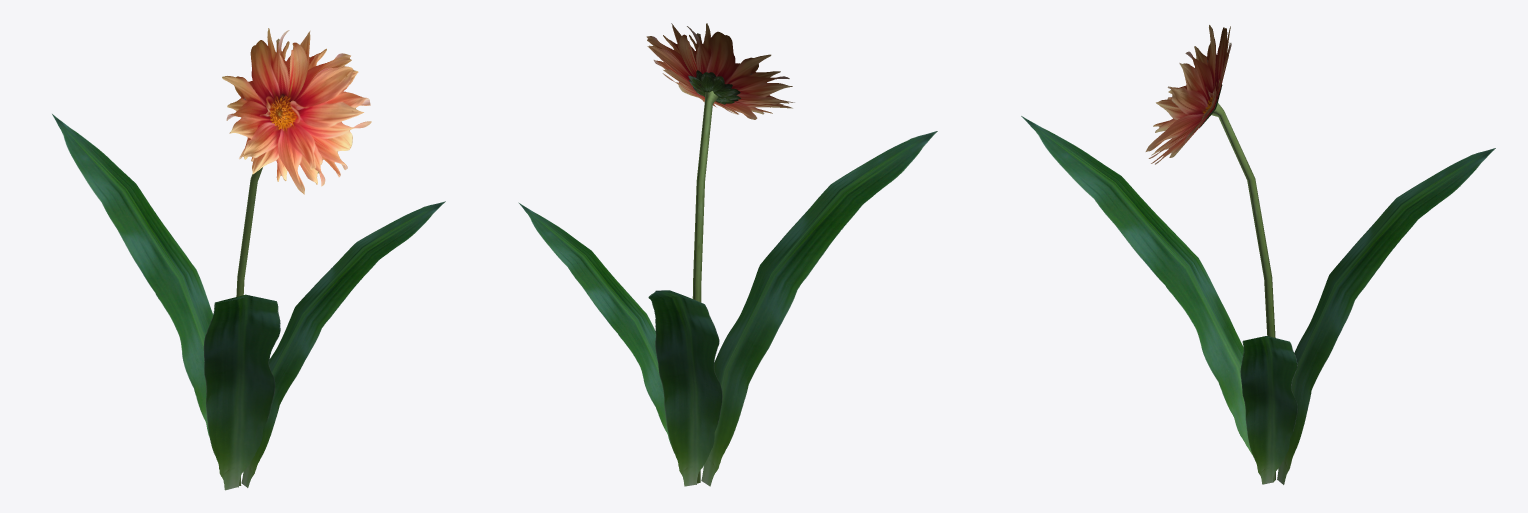
File: Flower_03.FBX
3 renders of one model, left to right at view 1: azimuth 30°, elevation 25°; view 2: azimuth 150°, elevation 25°; view 3: azimuth 270°, elevation 25°, orthographic. The views are drawn at different scales.
Parts seen in each view (by area): view 1: Flower_03; view 2: Flower_03; view 3: Flower_03.
Part boxes in pixels (x1,y1,x2,y2): Flower_03: [52, 28, 445, 490]; Flower_03: [518, 23, 937, 486]; Flower_03: [1021, 25, 1495, 484].
Size of the model in its own units: 0.909 by 1.17 by 1.17.
